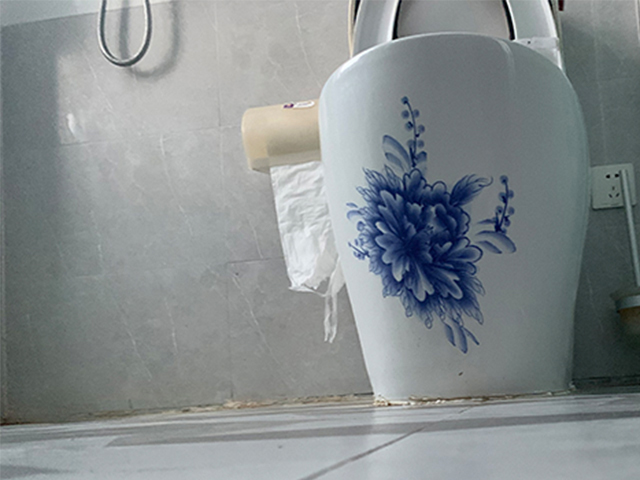closestool: (316, 1, 592, 405)
